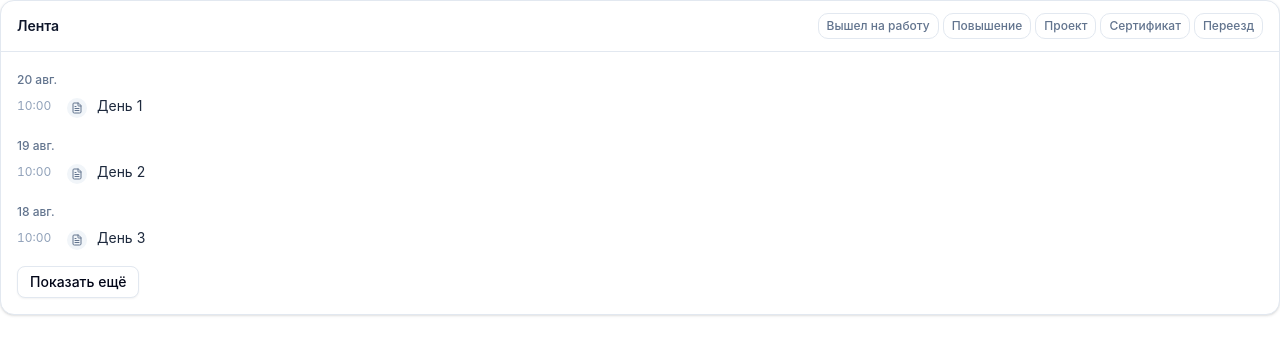
Test: TimelineFeed (Этап 3-5, plans/career_redesign_2026_08_26.md) › «Показать ещё» раскрывает уже загруженные дни сверх 3 без нового запроса
expect the text "День 1" is shown: met, box [97, 97, 142, 114]
expect the text "День 4" is not shown: met
Click the button "Показать ещё" at (78, 282), box [17, 266, 139, 298]
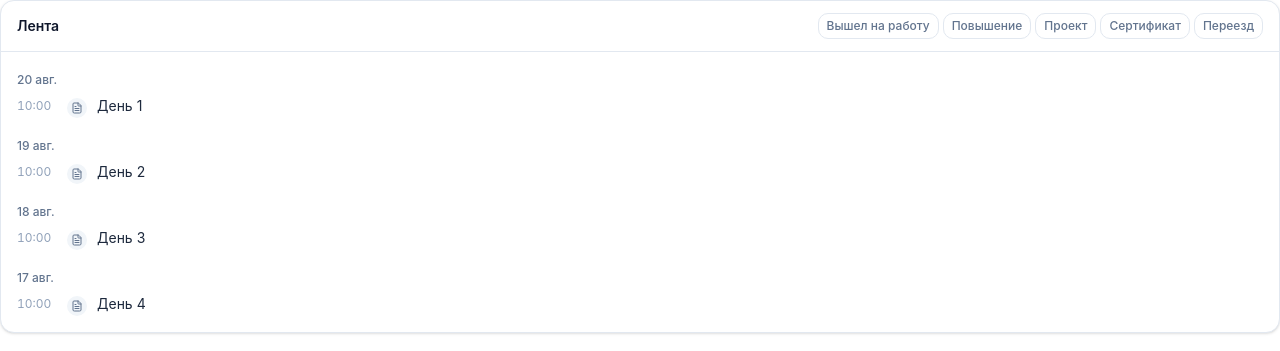
expect the text "День 4" is shown: met, box [97, 295, 146, 312]
